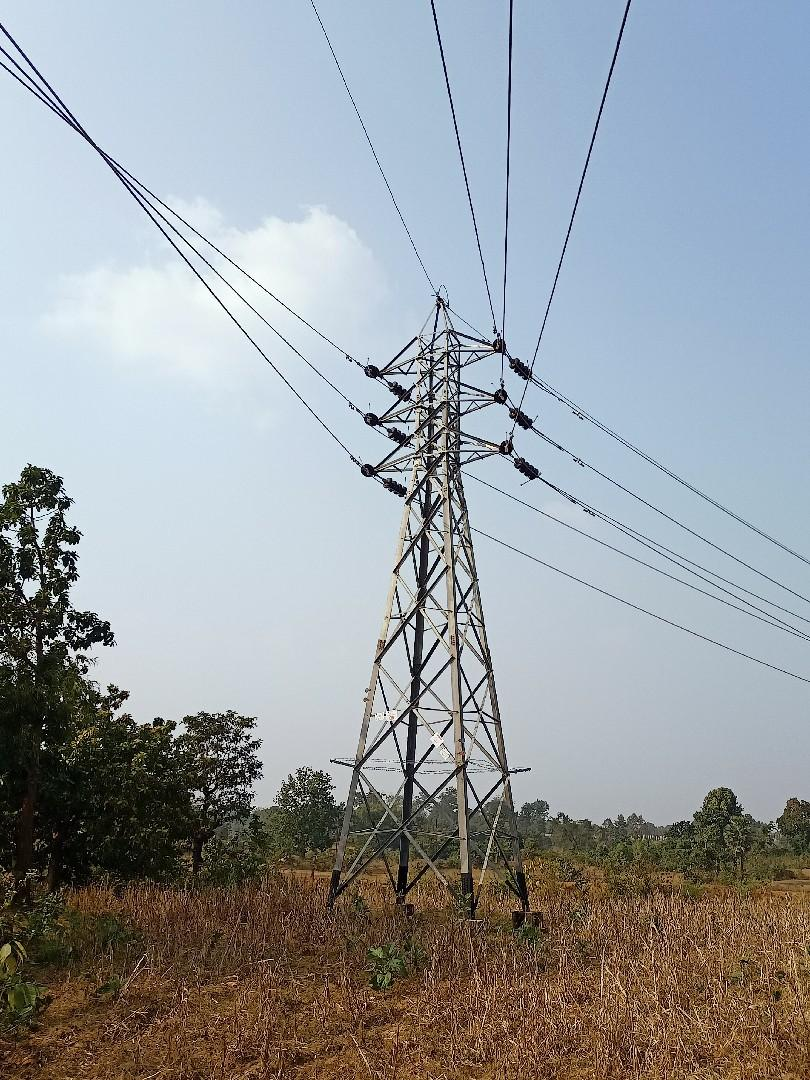GSM Antenna: (324, 294, 535, 900)
